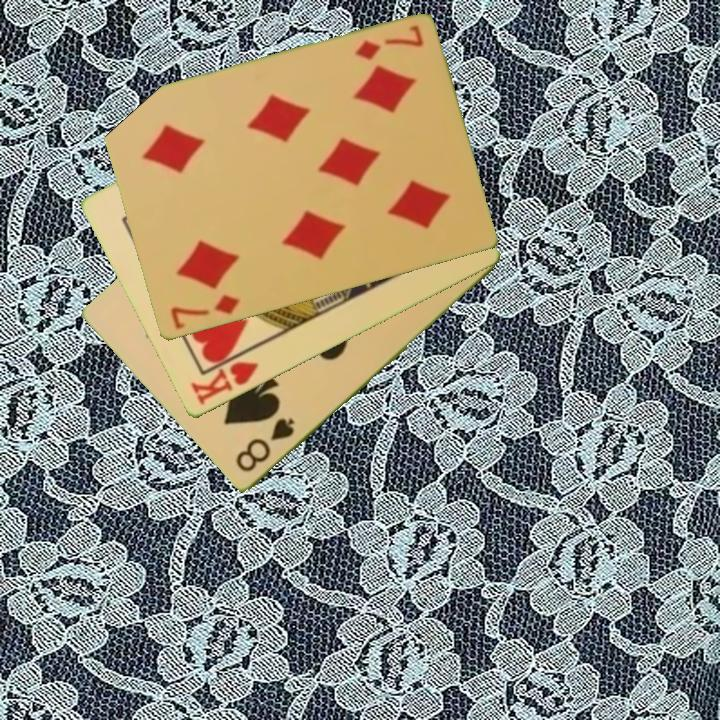7d: (166, 291, 243, 333), (351, 22, 426, 64)
8s: (232, 415, 298, 476)
Kh: (187, 345, 261, 409)
